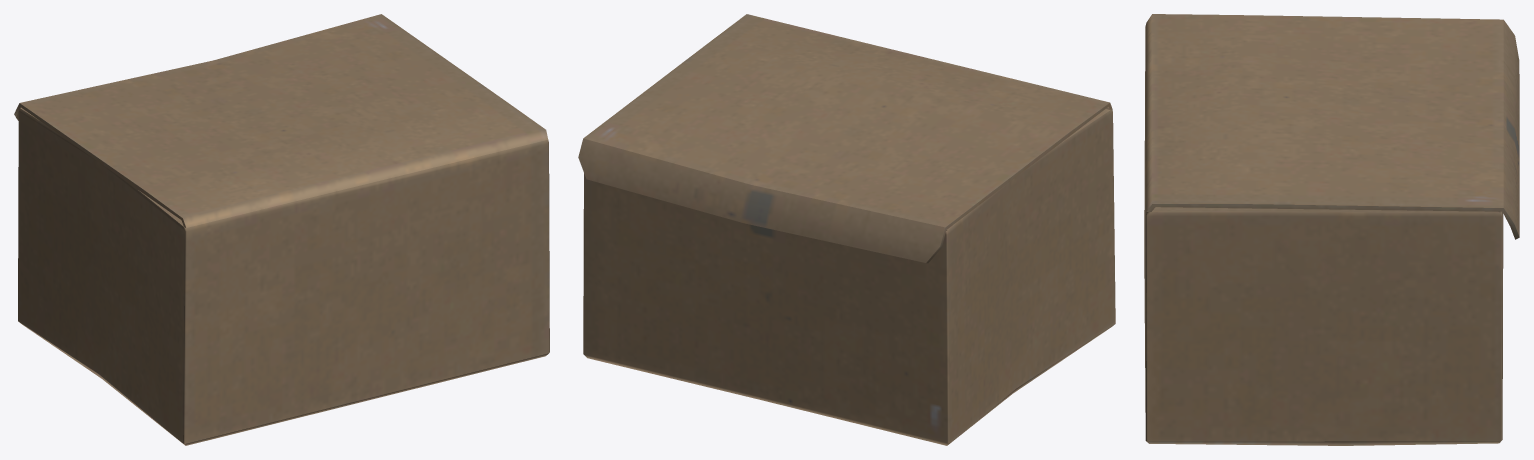
File: SM_Ammo_Cardboard_Boxes_01b.glb
3 renders of one model, left to right at view 1: azimuth 30°, elevation 25°; view 2: azimuth 150°, elevation 25°; view 3: azimuth 270°, elevation 25°, orthographic. The views are drawn at different scales.
Visible parts, largest first — view 1: SM_Ammo_Cardboard_Boxes_01b; view 2: SM_Ammo_Cardboard_Boxes_01b; view 3: SM_Ammo_Cardboard_Boxes_01b.
Boxes of the visible parts, x1,y1,x2,y2 form: SM_Ammo_Cardboard_Boxes_01b: (14, 14, 549, 445); SM_Ammo_Cardboard_Boxes_01b: (578, 14, 1115, 445); SM_Ammo_Cardboard_Boxes_01b: (1144, 14, 1519, 445).
Bounding box in the file's own units: 0.3934 × 0.2389 × 0.325.
1 material, 1 textured.
